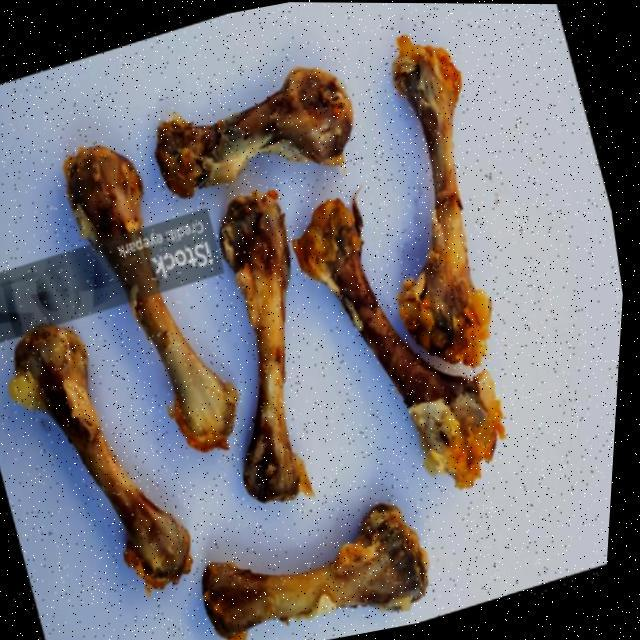Wet Waste: (147, 190, 379, 539), (290, 190, 506, 500), (343, 28, 538, 370), (0, 296, 207, 618), (52, 140, 254, 454), (120, 46, 372, 220), (181, 496, 451, 640)
